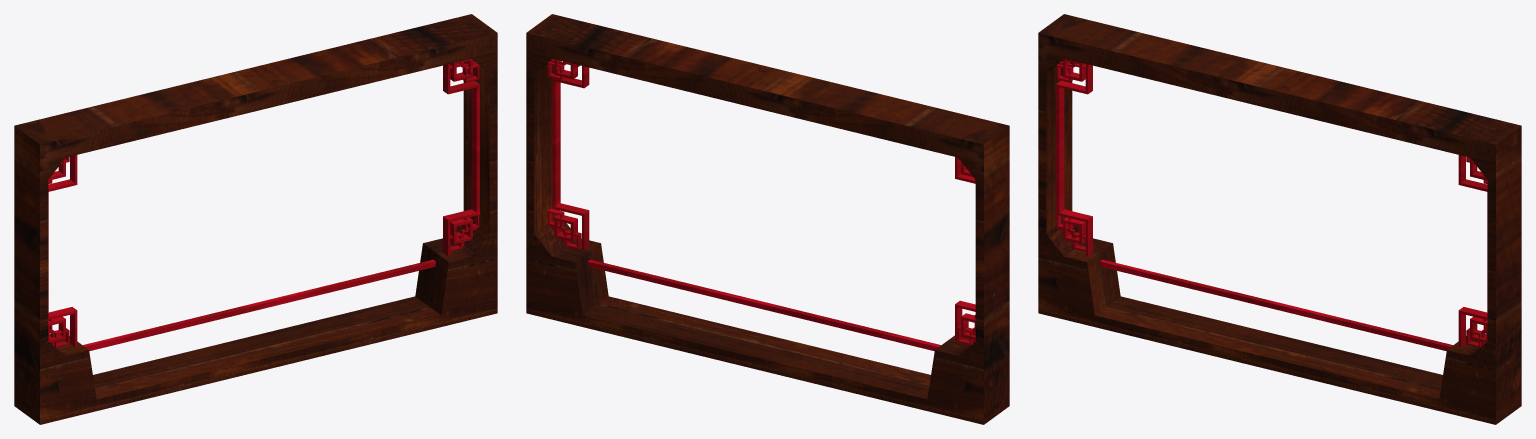
The model's file is JanelaJaponesaCortada.fbx.
The picture shows the model from 3 angles, left to right: view 1: azimuth 30°, elevation 25°; view 2: azimuth 150°, elevation 25°; view 3: azimuth 330°, elevation 25°; orthographic projection.
Parts seen in each view (by area): view 1: JanelaJaponesaCortada; view 2: JanelaJaponesaCortada; view 3: JanelaJaponesaCortada.
Part boxes in pixels (left/top/right/bottom): JanelaJaponesaCortada: left=14, top=14, right=497, bottom=424; JanelaJaponesaCortada: left=526, top=14, right=1009, bottom=424; JanelaJaponesaCortada: left=1038, top=14, right=1521, bottom=424.
Bounding box in the file's own units: 525 × 307 × 51.52.
